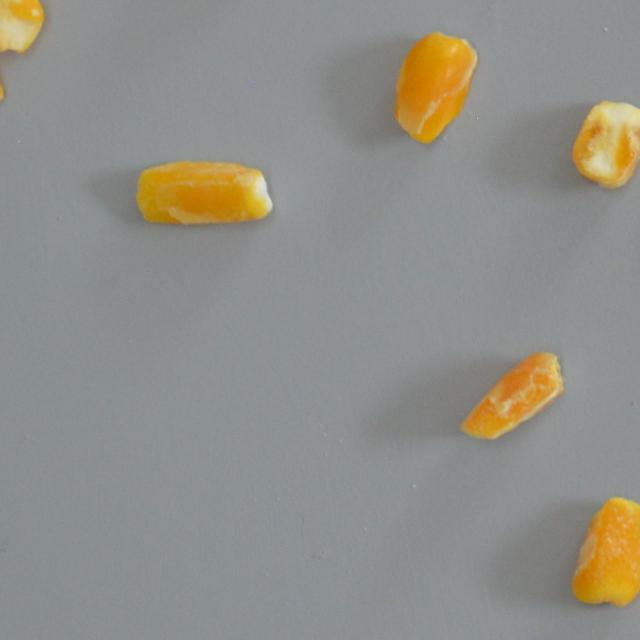pelicula: (134, 156, 271, 229), (391, 30, 476, 146), (458, 350, 563, 442), (570, 495, 640, 610), (574, 98, 640, 188), (0, 0, 44, 54)
